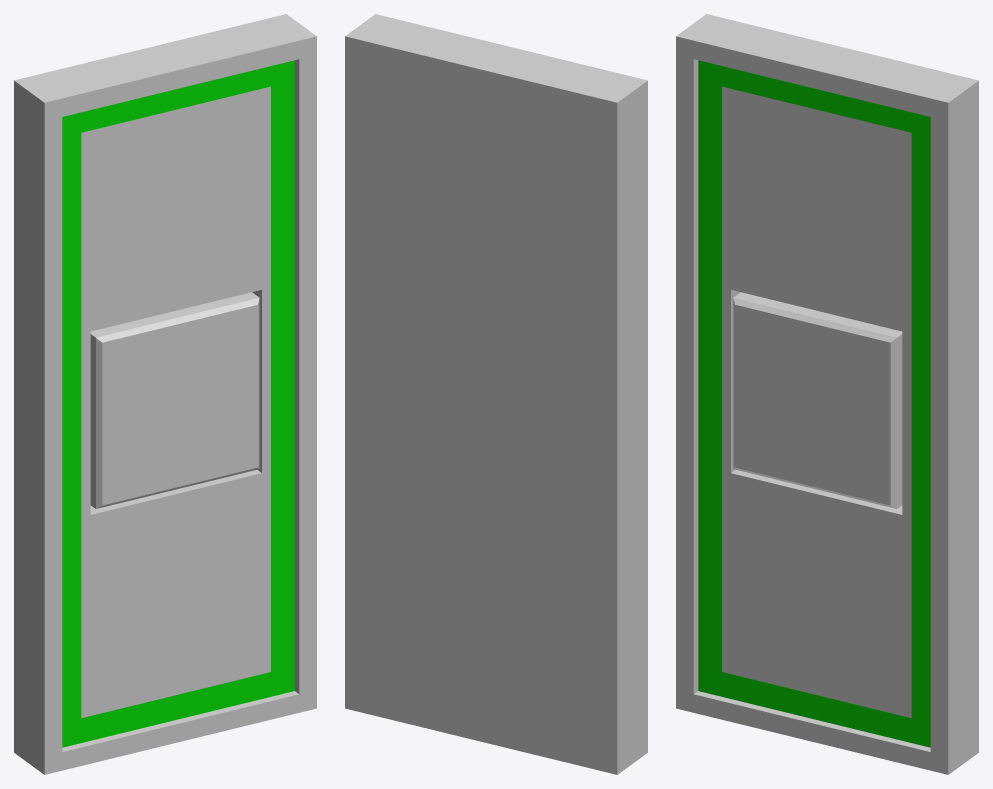
The model's file is elevator_outer_button.fbx.
The picture shows the model from 3 angles, left to right: view 1: azimuth 30°, elevation 25°; view 2: azimuth 150°, elevation 25°; view 3: azimuth 330°, elevation 25°; orthographic projection.
Visible parts, largest first — view 1: OuterButton, OuterButton_Button; view 2: OuterButton; view 3: OuterButton, OuterButton_Button.
Boxes of the visible parts, x1,y1,x2,y2 form: OuterButton: [14, 14, 316, 774]; OuterButton_Button: [90, 292, 259, 508]; OuterButton: [345, 14, 647, 774]; OuterButton: [676, 14, 978, 774]; OuterButton_Button: [733, 292, 902, 508].
Size of the model in its own units: 22.44 by 52.92 by 4.36.
